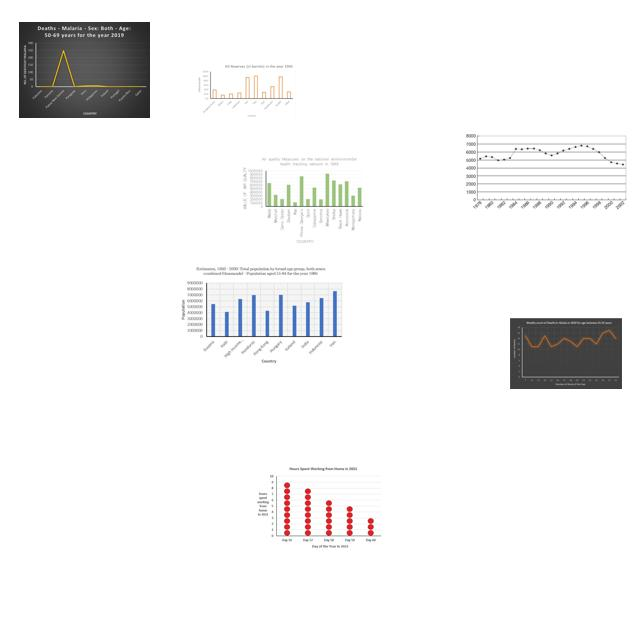Graph: (176, 264, 345, 364), (464, 131, 628, 211), (19, 22, 150, 118), (240, 155, 365, 245), (256, 465, 381, 551), (510, 318, 622, 389), (196, 62, 296, 120)
